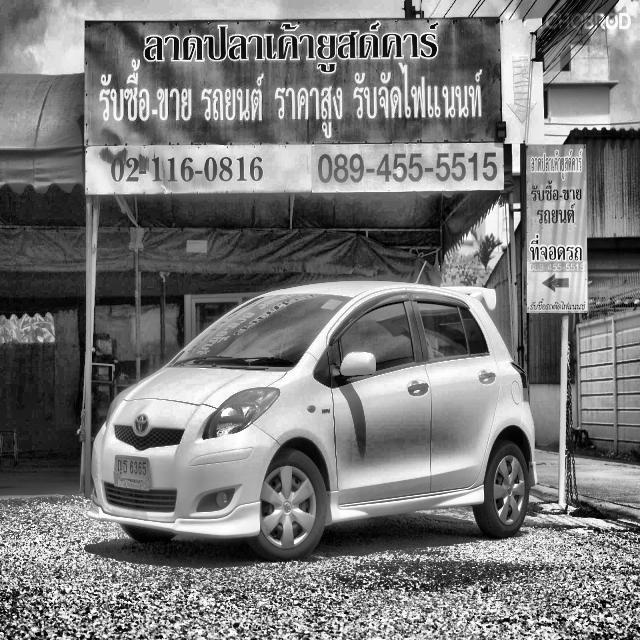license-plate: (113, 452, 153, 494)
